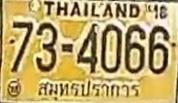0: (100, 23, 121, 72)
3: (35, 21, 56, 71)
4: (76, 22, 97, 72)
6: (124, 24, 145, 72), (148, 25, 169, 73)
7: (11, 21, 32, 72)
SPK: (35, 76, 143, 98)
